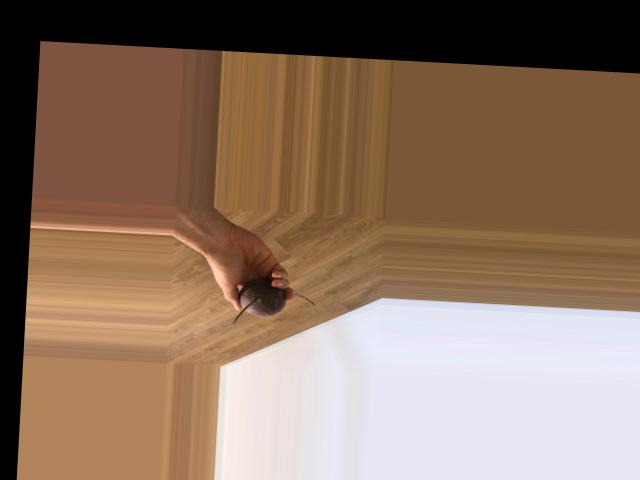beet: (233, 277, 316, 327)
